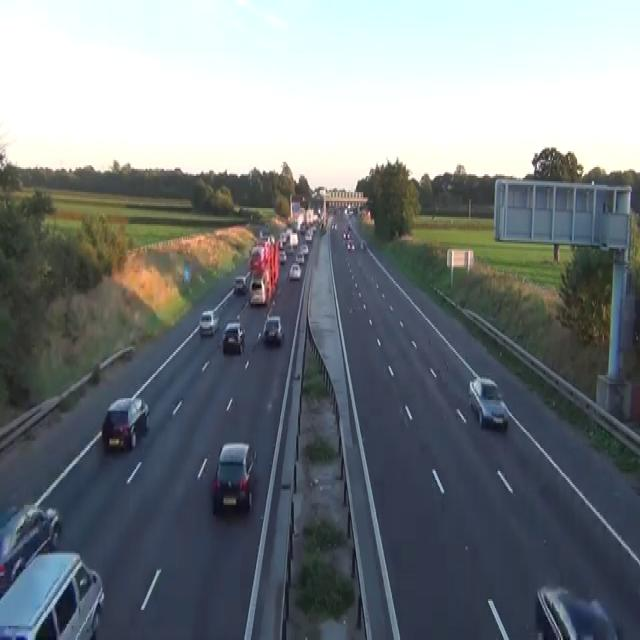Car: (0, 550, 104, 638), (0, 501, 60, 599), (535, 585, 620, 638), (211, 441, 256, 514), (101, 396, 149, 450), (468, 375, 508, 430), (222, 320, 245, 354), (262, 315, 282, 345), (199, 309, 218, 336), (249, 244, 265, 270), (233, 276, 246, 294), (288, 261, 301, 279), (183, 260, 191, 282), (91, 361, 100, 380), (295, 251, 304, 263), (304, 229, 312, 242), (259, 228, 269, 238), (278, 251, 286, 263), (299, 220, 306, 233), (299, 244, 308, 254), (342, 229, 350, 240), (359, 238, 366, 249), (347, 240, 354, 251), (268, 234, 275, 243), (331, 220, 337, 230), (286, 246, 293, 254), (278, 238, 283, 249), (347, 222, 351, 230)
Truck: (248, 234, 279, 306)
